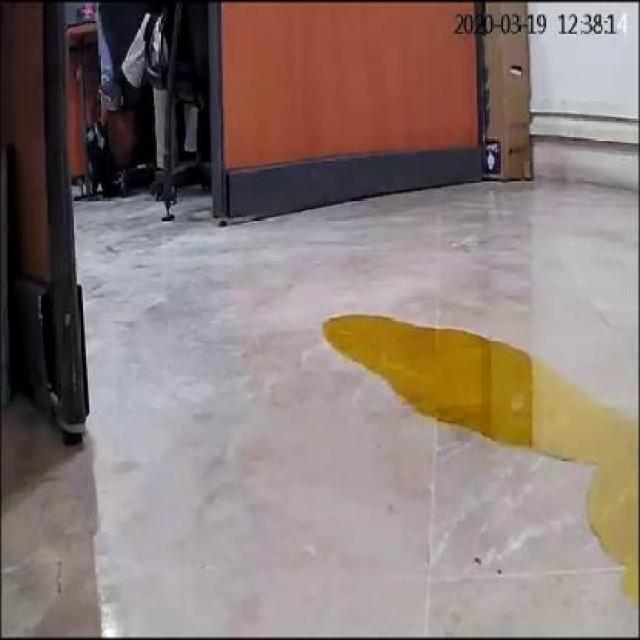spill: (320, 308, 638, 596)
